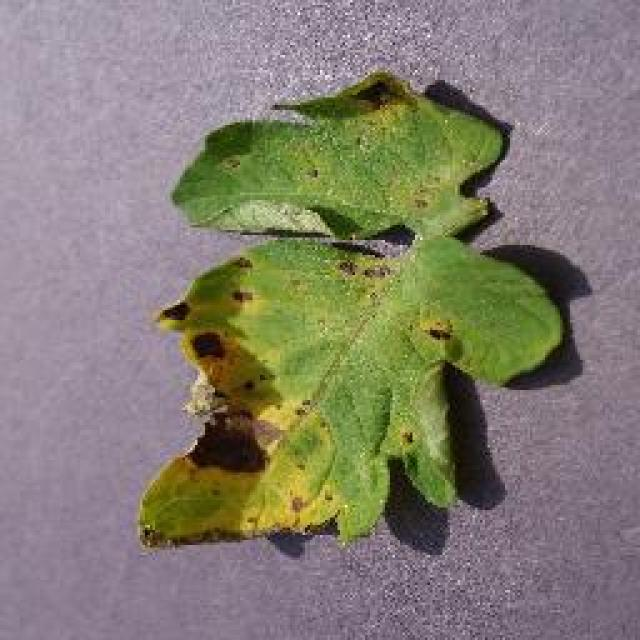Tomato___Septoria_leaf_spot: (140, 240, 560, 542), (175, 72, 500, 238)
